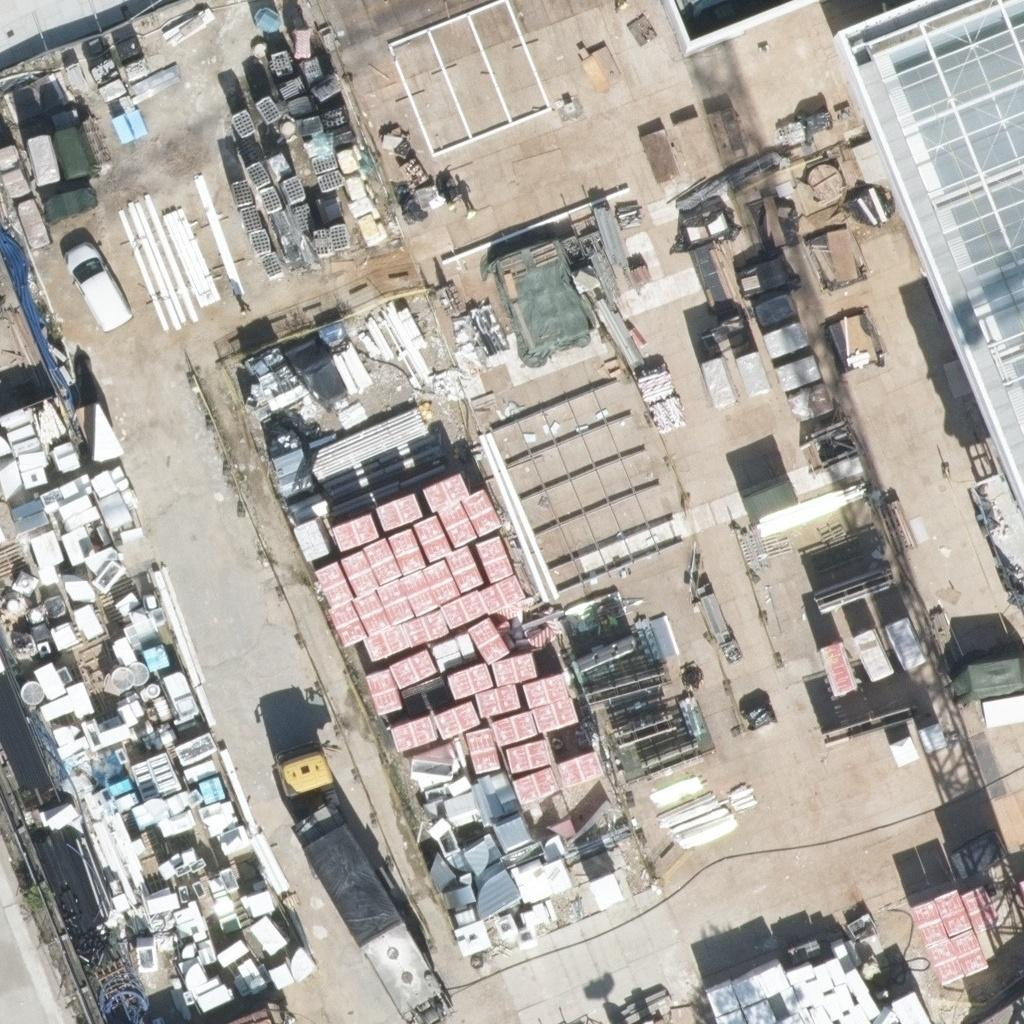ciezarowka: (276, 744, 333, 798)
samochod_osobowy: (67, 243, 131, 331)
